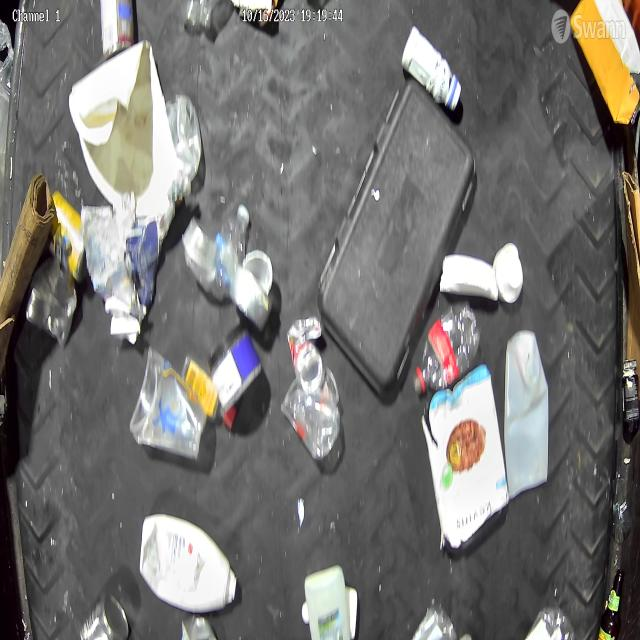can: (26, 252, 79, 346), (46, 189, 89, 283), (286, 316, 324, 395), (79, 590, 131, 640), (100, 0, 136, 62)
plastic_bottle: (412, 298, 482, 400), (213, 200, 250, 291)
